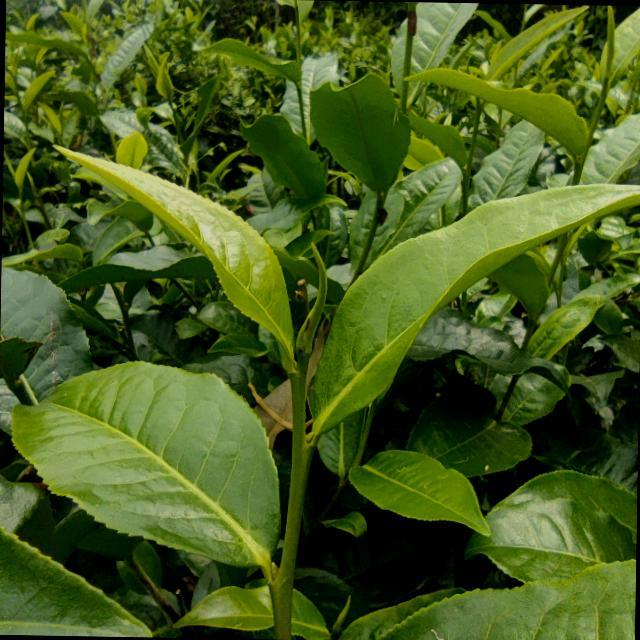Stem: (291, 370, 307, 395)
